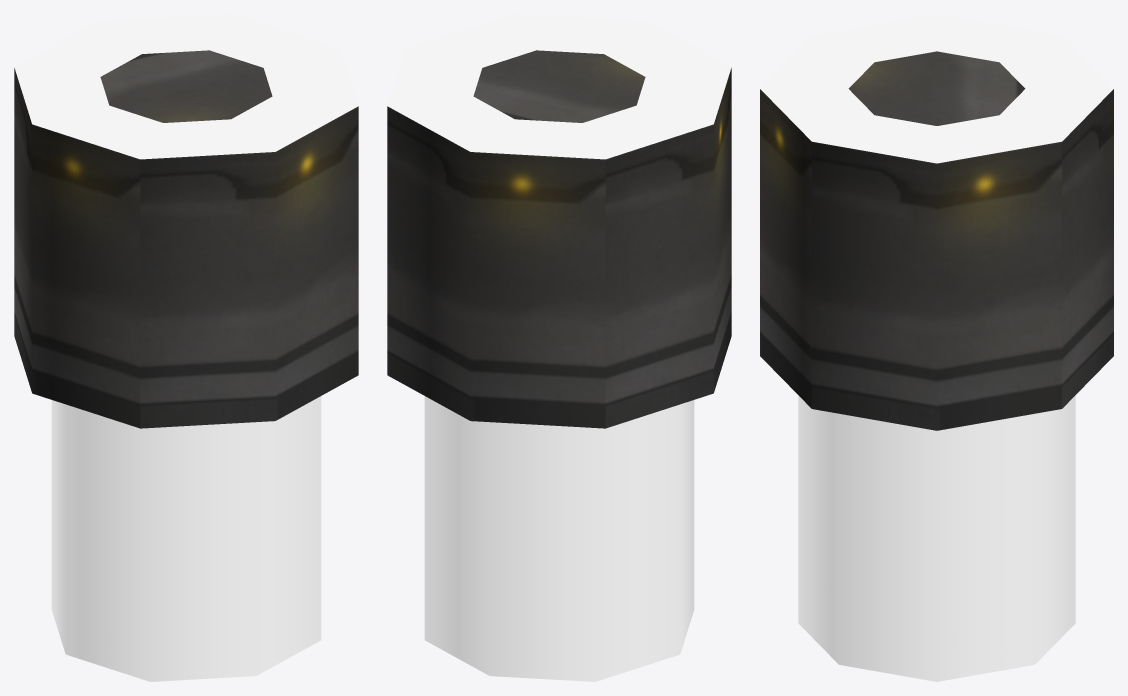
Rendered from prop_bar_stool.gltf.
The picture shows the model from 3 angles, left to right: view 1: azimuth 30°, elevation 25°; view 2: azimuth 150°, elevation 25°; view 3: azimuth 270°, elevation 25°; orthographic projection.
Parts seen in each view (by area): view 1: cylinder46; view 2: cylinder46; view 3: cylinder46.
Part boxes in pixels (x1,y1,x2,y2): cylinder46: (14, 14, 358, 681); cylinder46: (387, 14, 731, 681); cylinder46: (760, 14, 1113, 681).
Bounding box in the file's own units: 0.6 × 1 × 0.6.
Materials: 3 (3 with a texture image).
